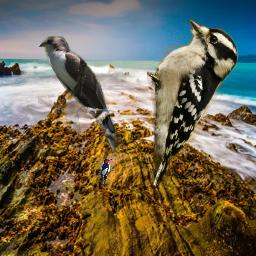Cuckoo: (38, 36, 126, 152)
Woodpecker: (147, 19, 238, 185), (99, 157, 114, 186)
